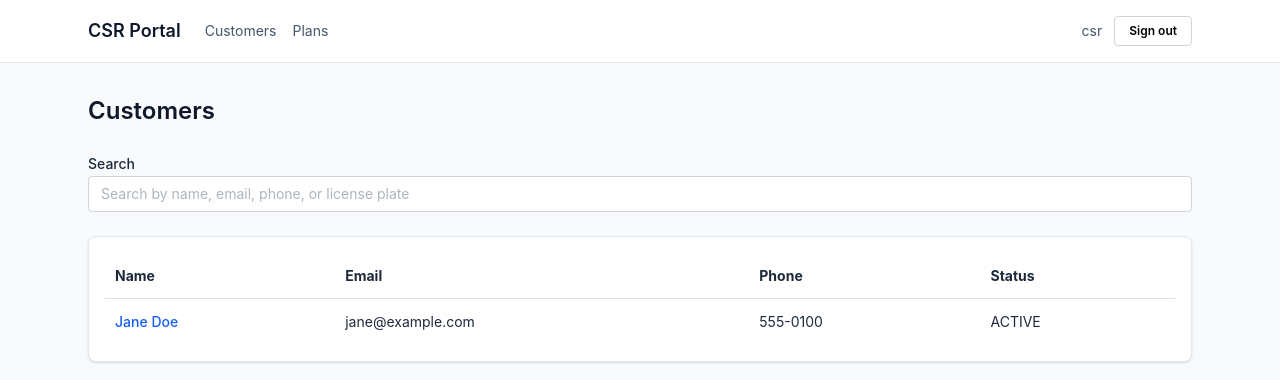
App › authentication › stays signed in and says so when sign out fails
This screenshot has width=1280, height=380.
Click the button "Sign out" at (1153, 31), box [1114,16,1192,46]
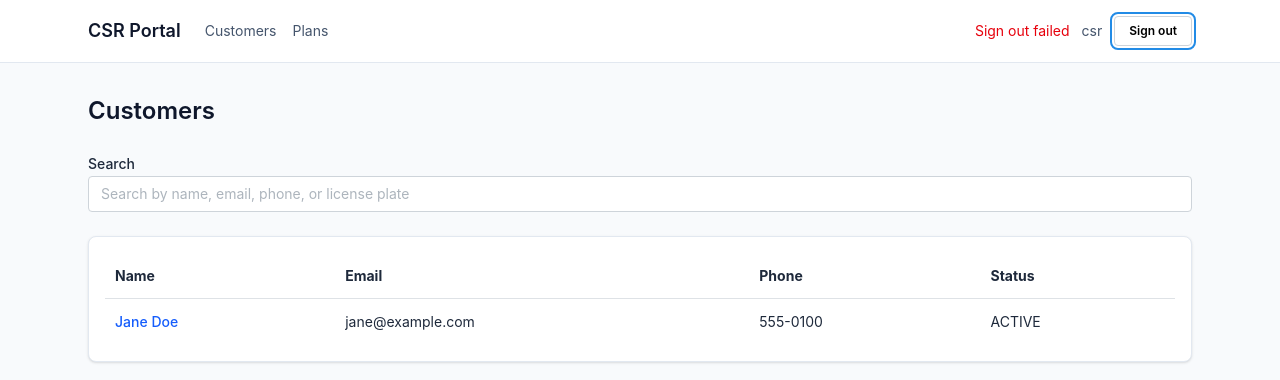
Expected: the link "Jane Doe" is shown, [115,314,178,330]
Expected: the message reads "Sign out failed", [975,22,1070,39]
